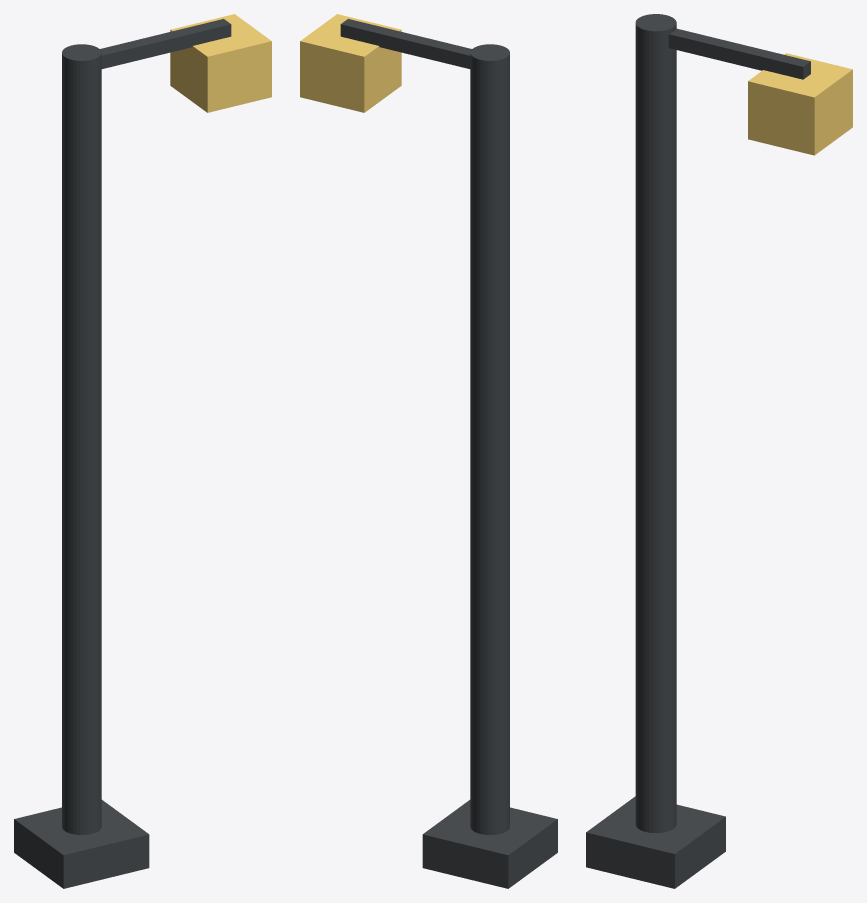
File: street-lamp.glb
The picture shows the model from 3 angles, left to right: view 1: azimuth 30°, elevation 25°; view 2: azimuth 150°, elevation 25°; view 3: azimuth 330°, elevation 25°; orthographic projection. The views are drawn at different scales.
Visible parts, largest first — view 1: street-lamp_0, street-lamp_1, street-lamp_3, street-lamp_2; view 2: street-lamp_0, street-lamp_1, street-lamp_3, street-lamp_2; view 3: street-lamp_0, street-lamp_1, street-lamp_3, street-lamp_2.
Boxes of the visible parts, <box> form: street-lamp_0: <box>62,44,101,834</box>; street-lamp_1: <box>14,800,149,888</box>; street-lamp_3: <box>170,14,271,112</box>; street-lamp_2: <box>100,19,231,68</box>; street-lamp_0: <box>470,44,509,834</box>; street-lamp_1: <box>422,800,557,888</box>; street-lamp_3: <box>300,14,401,112</box>; street-lamp_2: <box>340,19,471,68</box>; street-lamp_0: <box>635,14,676,833</box>; street-lamp_1: <box>586,796,725,888</box>; street-lamp_3: <box>748,53,852,155</box>; street-lamp_2: <box>668,28,810,79</box>.
Bounding box in the file's own units: 1 × 3.6 × 0.4.
